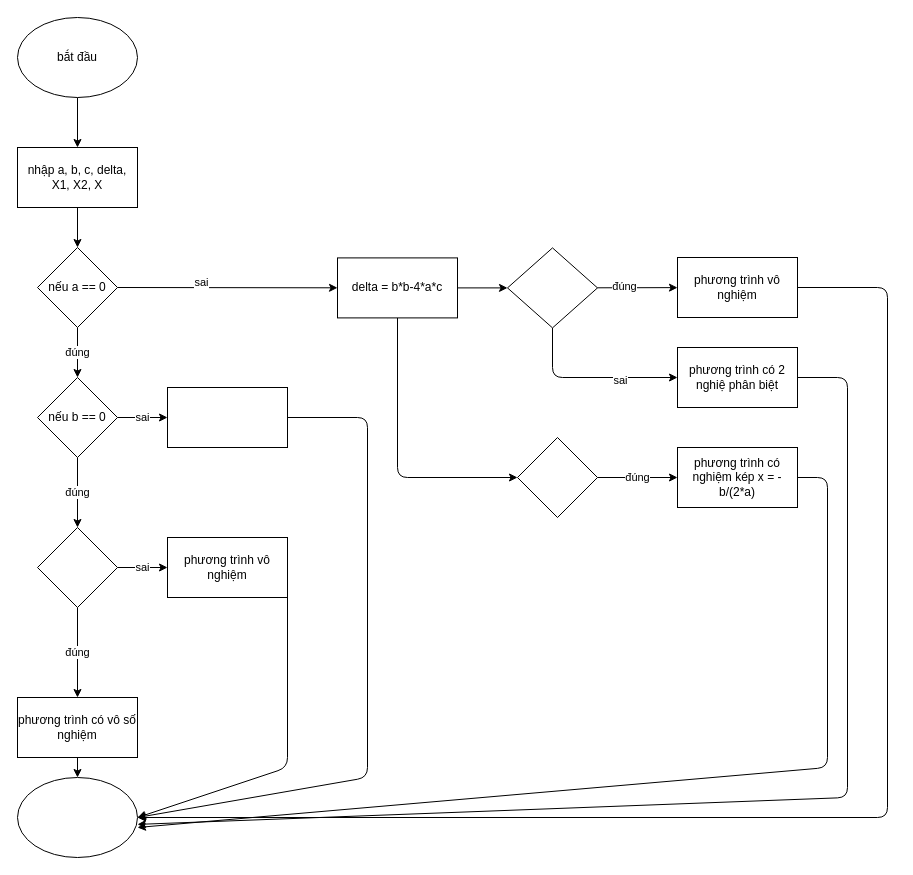
Some shapes in this 913 by 875 pixel diagram are drawn without their labels. Each missing label, with the centre of its shape:
"kết thúc" belongs at point (77, 817).
"nếu c == 0" belongs at point (77, 567).
"nếu delta == 0" belongs at point (557, 477).
"nếu delta<0" belongs at point (552, 287).
"phương trình có nghiệm x = -c/b" belongs at point (227, 417).
